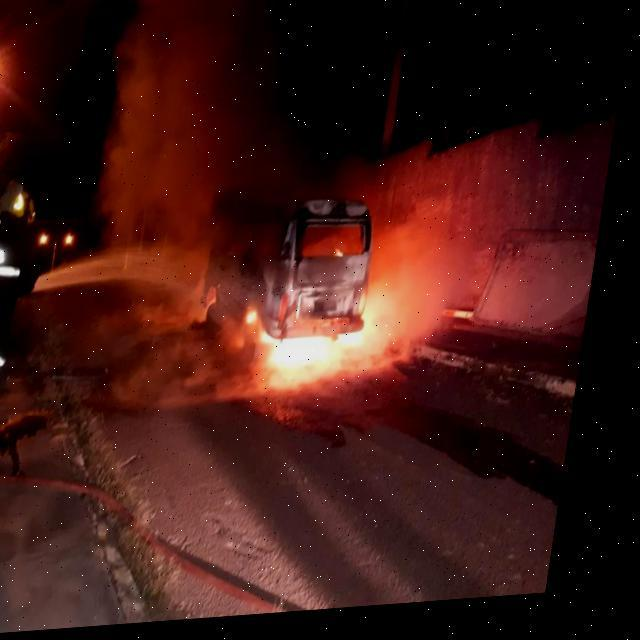Fire: (268, 321, 372, 377)
